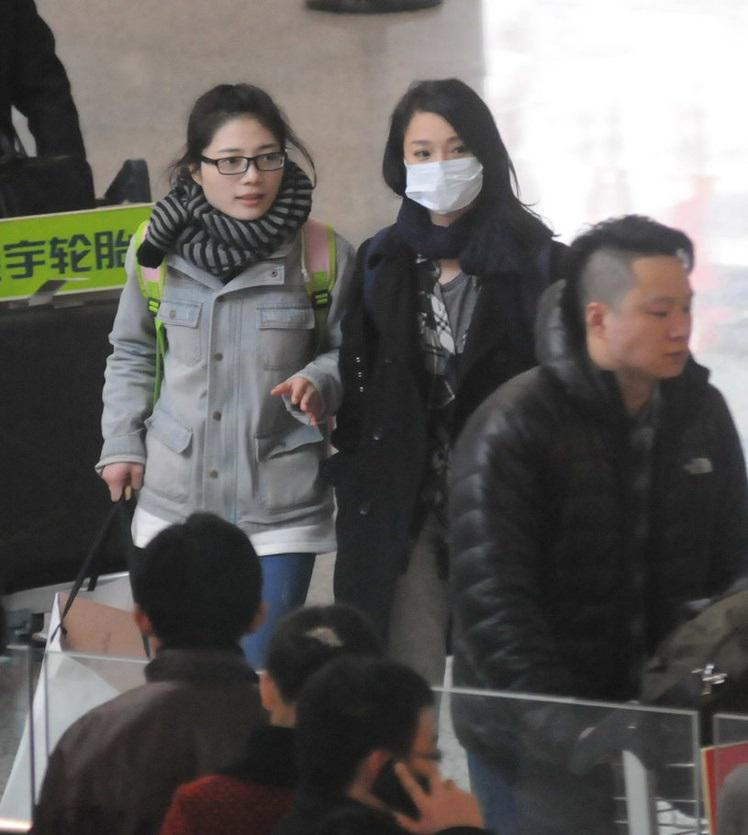NONE: (602, 281, 695, 379), (205, 135, 286, 221)
OK: (399, 127, 484, 212)
